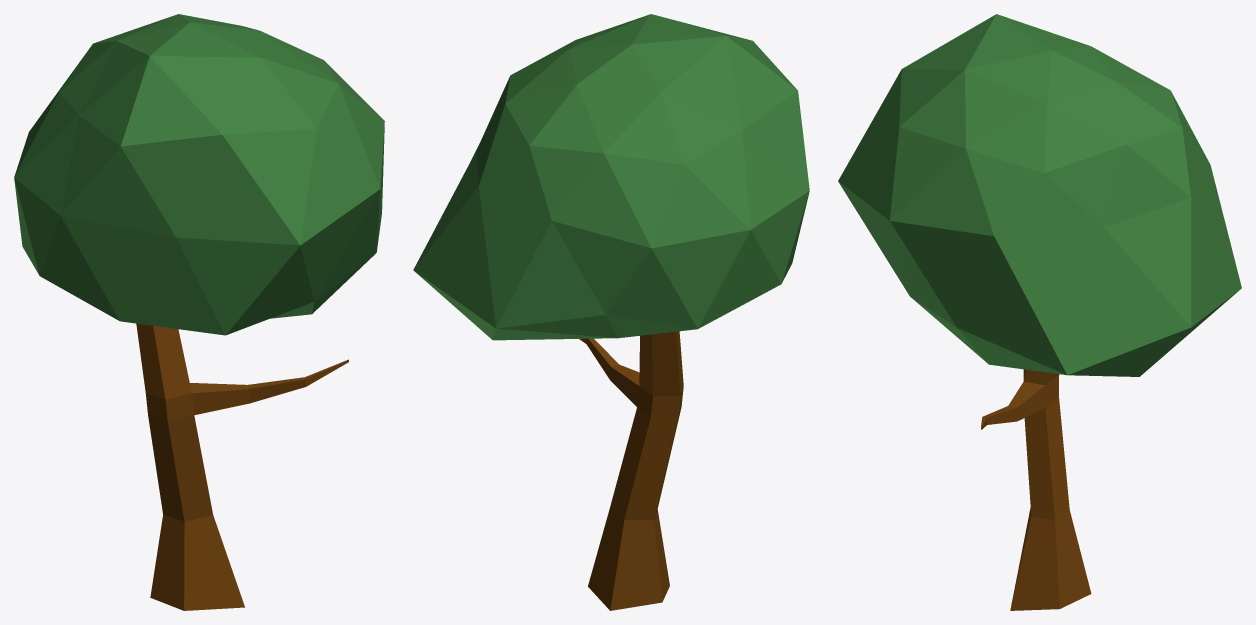
File: HjemmelagaTre.fbx
3 views of the same model, side by side, from view 1: azimuth 30°, elevation 25°; view 2: azimuth 150°, elevation 25°; view 3: azimuth 270°, elevation 25° (orthographic). The views are drawn at different scales.
Parts seen in each view (by area): view 1: Cylinder.001, Cylinder; view 2: Cylinder.001, Cylinder; view 3: Cylinder.001, Cylinder.
Part boxes in pixels (x1,y1,x2,y2): Cylinder.001: (14,14,384,335); Cylinder: (136,323,348,610); Cylinder.001: (413,14,809,340); Cylinder: (579,331,683,610); Cylinder.001: (838,14,1241,376); Cylinder: (981,369,1091,610).
Size of the model in its own units: 635 by 987 by 658.
